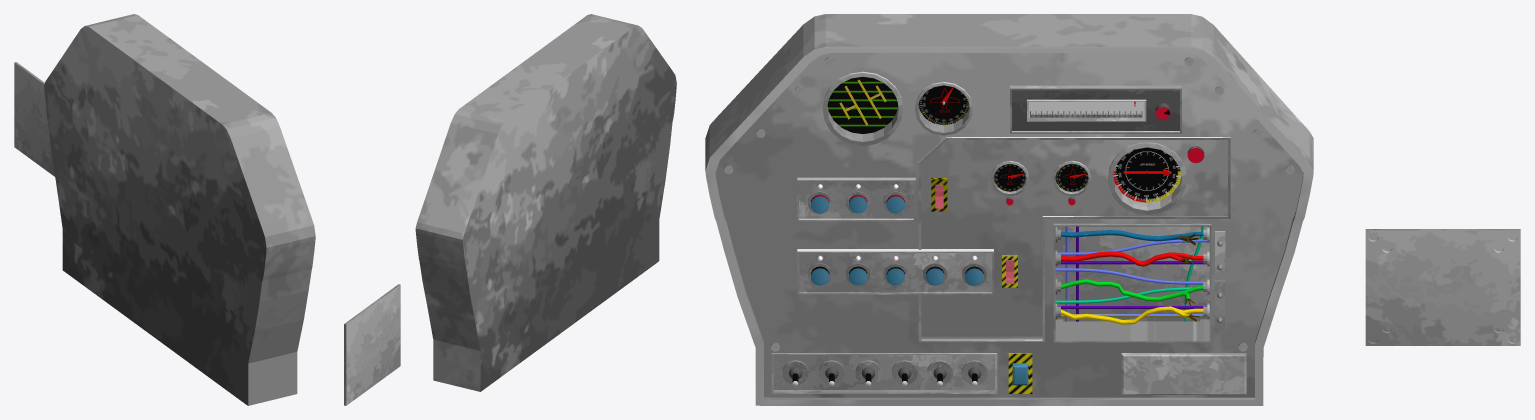
Rendered from Painel Aviao.fbx.
3 renders of one model, left to right at view 1: azimuth 30°, elevation 25°; view 2: azimuth 150°, elevation 25°; view 3: azimuth 270°, elevation 25°, orthographic. The views are drawn at different scales.
Parts seen in each view (by area): view 1: Painel1, Tampa; view 2: Painel1, Tampa; view 3: Painel1, Tampa, FioC3.
Part boxes in pixels (<box>): Painel1: <box>44,14,315,405</box>; Tampa: <box>14,62,54,176</box>; Painel1: <box>415,14,676,391</box>; Tampa: <box>344,284,400,405</box>; Painel1: <box>705,14,1313,405</box>; Tampa: <box>1365,229,1520,345</box>; FioC3: <box>1061,279,1203,301</box>.
Bounding box in the file's own units: 62.83 × 262 × 540.
1 material, 1 textured.
